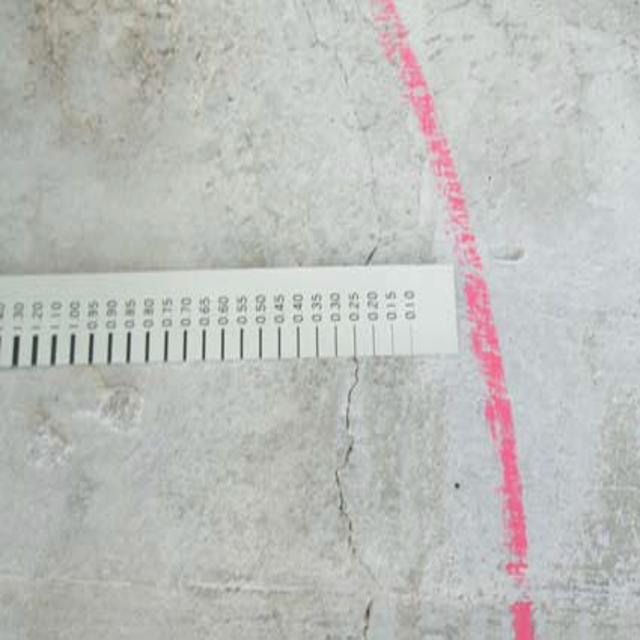crack: (300, 16, 413, 271), (318, 354, 413, 640)
